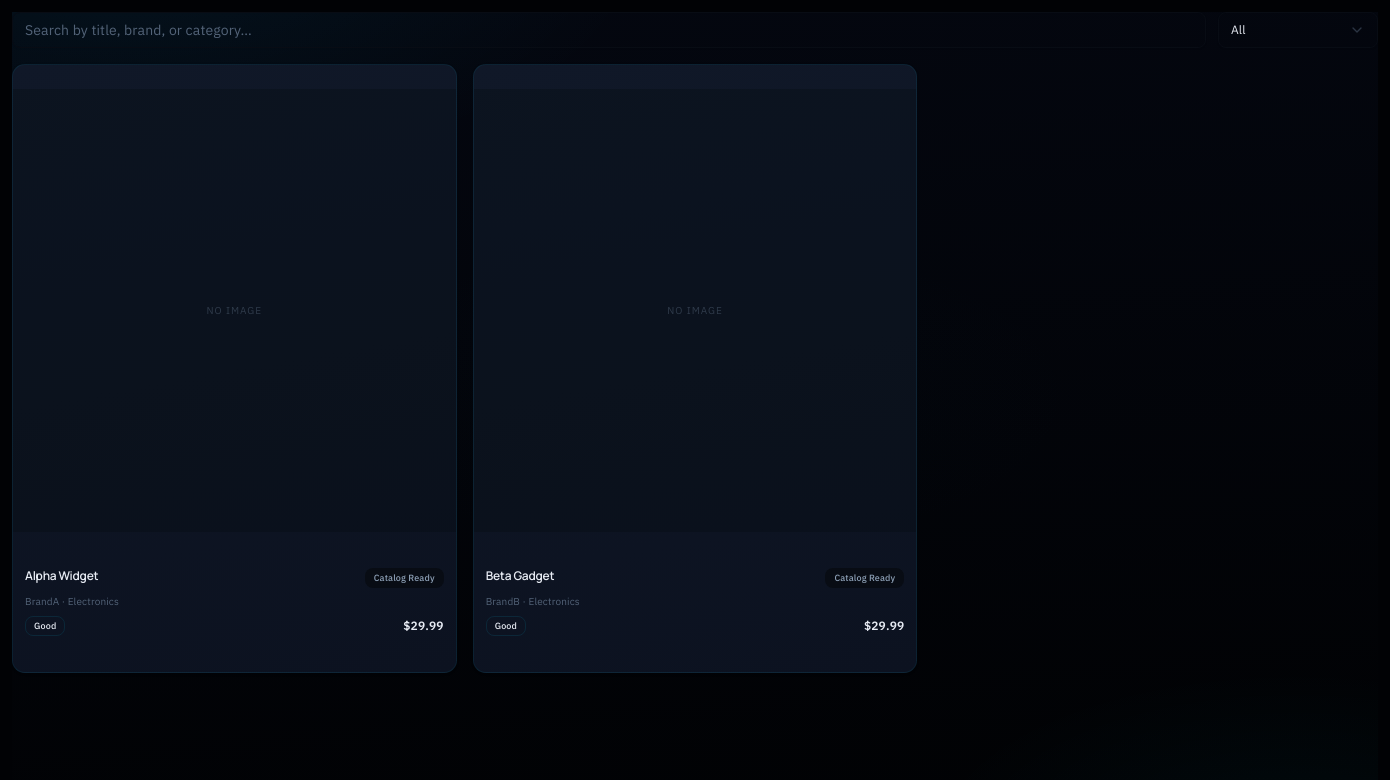
CatalogLibrary › filters items by search text
This screenshot has width=1390, height=780.
Step 1. Type "alpha" into the field with placeholder "Search by title, brand, or category…" → (609, 30), box top-left (12, 12), bottom-right (1206, 48)
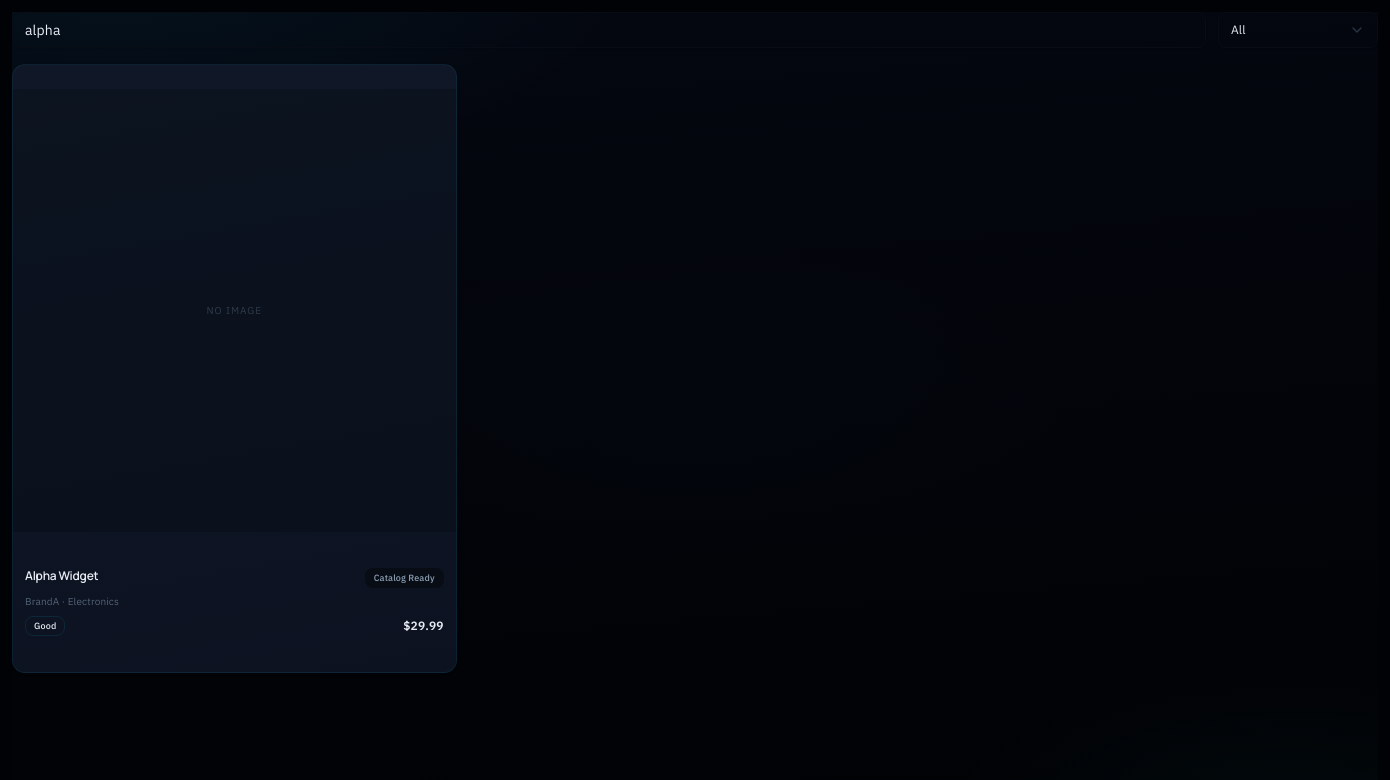
Expected: the heading "Alpha Widget" is shown, top-left (25, 567), bottom-right (98, 584)
Expected: the heading "Beta Gadget" is gone
